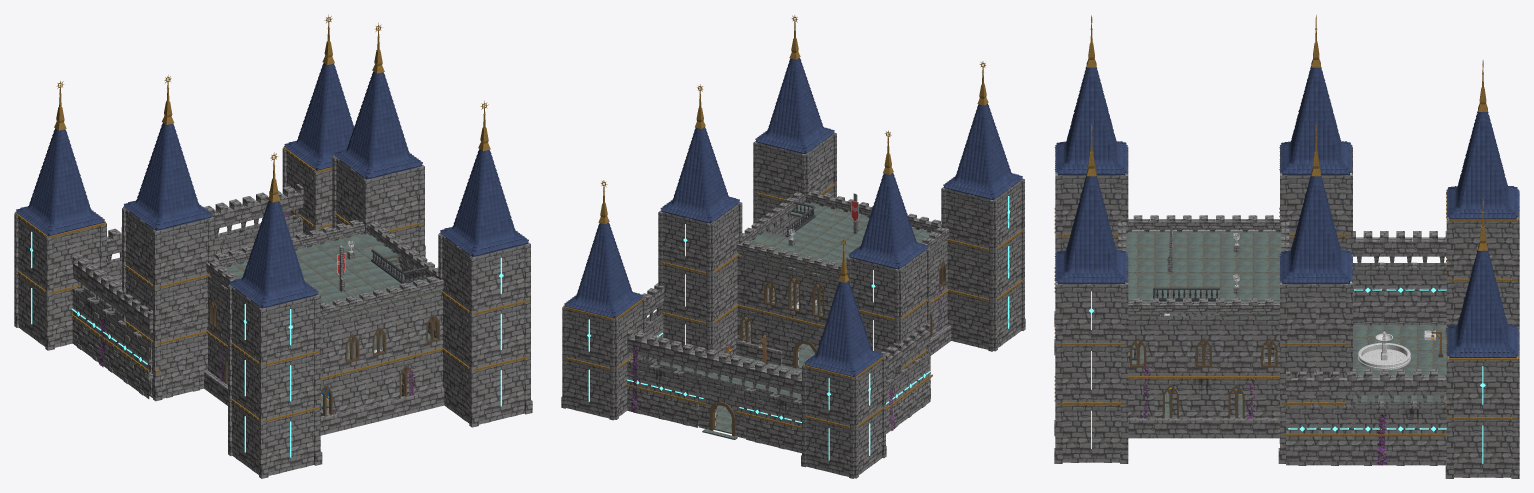
File: castle.parts.glb
3 renders of one model, left to right at view 1: azimuth 30°, elevation 25°; view 2: azimuth 150°, elevation 25°; view 3: azimuth 270°, elevation 25°, orthographic. The views are drawn at different scales.
Visible parts, largest first — view 1: P185_ChurchTower_03, P267_ChurchTower_03, P226_ChurchTower_03, P144_ChurchTower_03, P588_ChurchTower_03, P617_ChurchTower_03, shell_L0_0, P054_CastleWall_01, P053_CastleWall_05, P052_CastleWall_05, P553_CastleWall_01, P211_CastleWall_01 (+61 smaller); view 2: P226_ChurchTower_03, P267_ChurchTower_03, P144_ChurchTower_03, P185_ChurchTower_03, P588_ChurchTower_03, P617_ChurchTower_03, shell_L0_0, P547_CastleWall_06, P033_CastleWall_06, P539_CastleWall_01, P541_CastleWall_01, P537_CastleWall_01 (+65 smaller); view 3: P588_ChurchTower_03, P185_ChurchTower_03, P267_ChurchTower_03, P617_ChurchTower_03, P226_ChurchTower_03, P144_ChurchTower_03, shell_L0_0, P519_CastleWall_01, P069_CastleWall_01, P520_CastleWall_01, P512_CastleWall_01, P073_CastleWall_01 (+66 smaller).
Boxes of the visible parts, x1,y1,x2,y2 form: P185_ChurchTower_03: (440, 100, 528, 256); P267_ChurchTower_03: (334, 23, 422, 179); P226_ChurchTower_03: (124, 75, 212, 230); P144_ChurchTower_03: (230, 152, 318, 308); P588_ChurchTower_03: (16, 81, 104, 236); P617_ChurchTower_03: (284, 14, 354, 170); shell_L0_0: (14, 146, 529, 422); P054_CastleWall_01: (391, 297, 419, 359); P053_CastleWall_05: (364, 304, 392, 366); P052_CastleWall_05: (338, 310, 365, 372); P553_CastleWall_01: (182, 333, 208, 393); P211_CastleWall_01: (160, 224, 184, 285); P226_ChurchTower_03: (848, 130, 927, 269); P267_ChurchTower_03: (660, 84, 739, 223); P144_ChurchTower_03: (943, 61, 1022, 200); P185_ChurchTower_03: (755, 15, 834, 154); P588_ChurchTower_03: (804, 237, 883, 377); P617_ChurchTower_03: (564, 180, 643, 318); shell_L0_0: (563, 184, 1022, 428); P547_CastleWall_06: (698, 375, 748, 438); P033_CastleWall_06: (782, 317, 824, 368); P539_CastleWall_01: (673, 369, 701, 427); P541_CastleWall_01: (649, 363, 677, 421); P537_CastleWall_01: (745, 386, 773, 445); P588_ChurchTower_03: (1446, 60, 1519, 219); P185_ChurchTower_03: (1054, 124, 1128, 283); P267_ChurchTower_03: (1279, 123, 1352, 283); P617_ChurchTower_03: (1446, 199, 1519, 357); P226_ChurchTower_03: (1279, 15, 1352, 175); P144_ChurchTower_03: (1054, 15, 1127, 175); shell_L0_0: (1054, 191, 1519, 436); P519_CastleWall_01: (1384, 262, 1417, 325); P069_CastleWall_01: (1154, 315, 1187, 375); P520_CastleWall_01: (1384, 401, 1417, 465); P512_CastleWall_01: (1318, 404, 1351, 465); P073_CastleWall_01: (1220, 316, 1252, 375).
Size of the model in its own units: 41.37 by 37.79 by 47.86.
15 materials, 12 textured.
